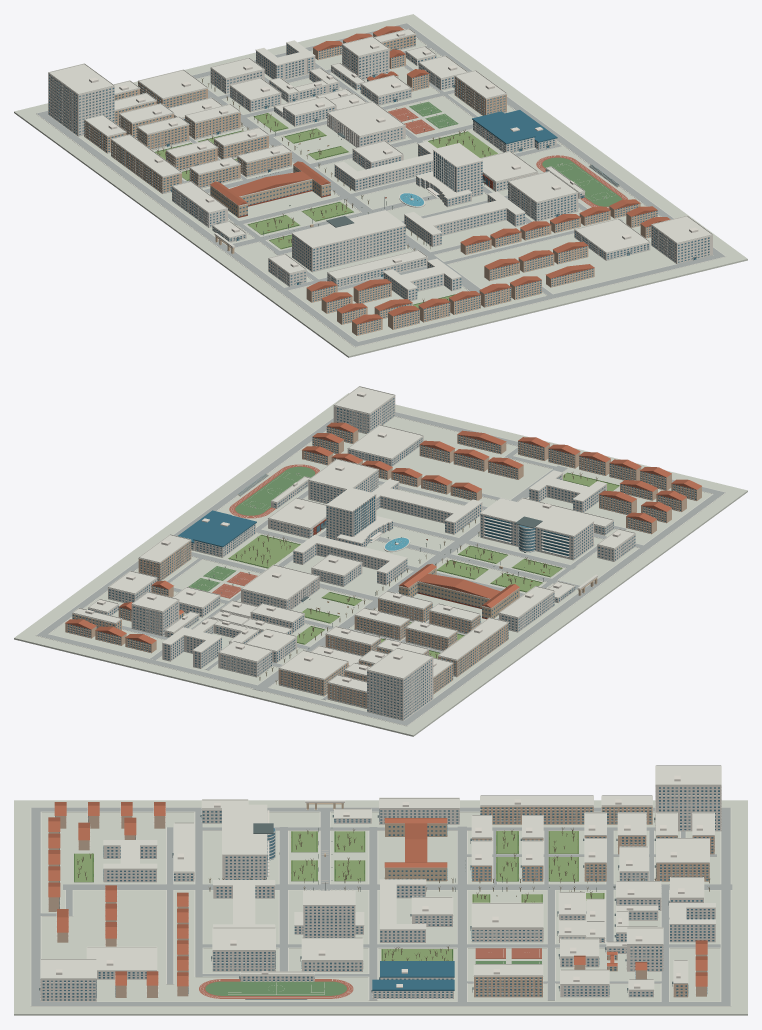
The model's file is bupt-haidian-base.glb.
3 views of the same model, one above another, from view 1: azimuth 30°, elevation 25°; view 2: azimuth 150°, elevation 25°; view 3: azimuth 270°, elevation 25° (orthographic). The views are drawn at different scales.
Visible parts, largest first — view 1: Terrain_and_roads, teaching3, tech, Sports_and_plazas, Residential_context_8, teaching4, main, teaching2, Residential_context_3, innovation, library, mingguang (+38 smaller); view 2: Terrain_and_roads, teaching3, tech, Sports_and_plazas, Residential_context_8, teaching4, main, teaching2, library, Residential_context_3, teaching1, dorm10 (+37 smaller); view 3: Terrain_and_roads, teaching3, tech, Sports_and_plazas, library, dorm13, main, teaching4, innovation, mingguang, dorm29, teaching1 (+45 smaller).
Part boxes in pixels (x1,y1,x2,y2): Terrain_and_roads: (14,14,747,357); teaching3: (292,210,405,272); tech: (48,63,114,136); Sports_and_plazas: (310,101,627,227); Residential_context_8: (388,276,541,329); teaching4: (210,161,331,217); main: (415,143,482,207); teaching2: (404,191,525,246); Residential_context_3: (460,199,640,254); innovation: (508,171,578,221); library: (327,101,405,147); mingguang: (651,215,712,263); Terrain_and_roads: (14,393,747,736); teaching3: (480,498,594,560); tech: (366,647,433,720); Sports_and_plazas: (188,464,502,598); Residential_context_8: (518,437,671,490); teaching4: (398,564,519,619); main: (326,487,393,547); teaching2: (371,479,482,534); library: (241,564,319,609); Residential_context_3: (302,446,481,500); teaching1: (293,535,407,585); dorm10: (278,650,348,696); Terrain_and_roads: (14,800,747,1015); teaching3: (222,804,275,879); tech: (654,765,721,831); Sports_and_plazas: (199,853,541,998); library: (470,902,543,942); dorm13: (480,795,593,824); main: (294,889,364,937); teaching4: (384,818,447,881); innovation: (211,927,275,971); mingguang: (39,959,96,1001); dorm29: (472,964,543,997); teaching1: (379,879,426,942).
Size of the model in its own units: 550 by 59.9 by 798.
